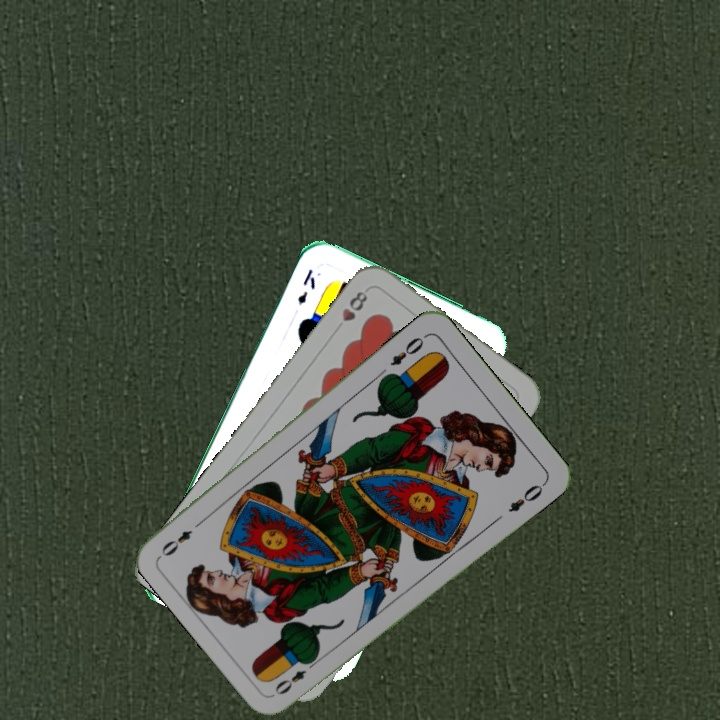EK: (293, 265, 318, 308)
EO: (270, 655, 320, 698), (386, 330, 430, 369)
H8: (337, 284, 370, 325)
